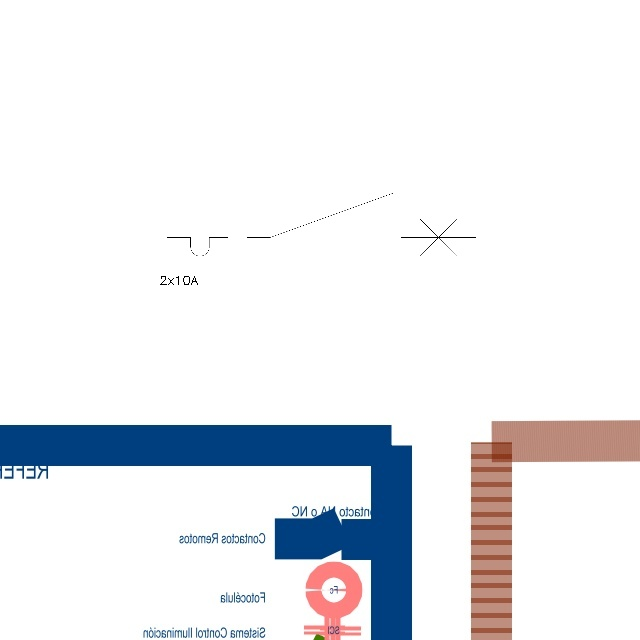interruptor_termomagnetico: (159, 185, 484, 264)
